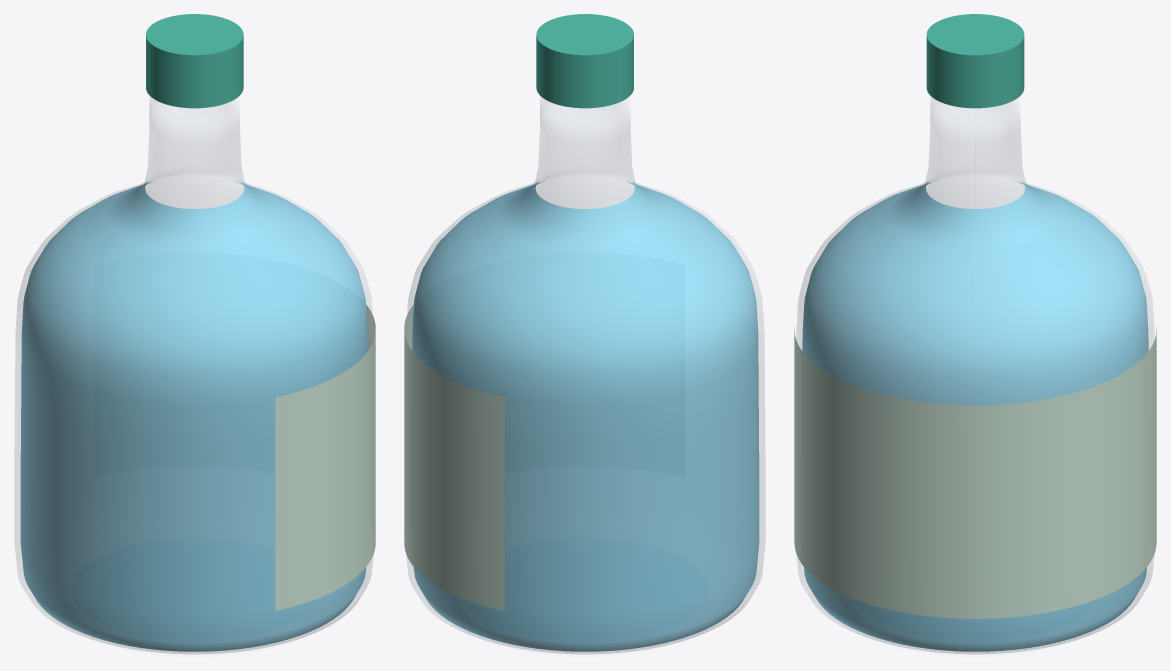
Rendered from krio_h2o_20litre.glb.
The picture shows the model from 3 angles, left to right: view 1: azimuth 30°, elevation 25°; view 2: azimuth 150°, elevation 25°; view 3: azimuth 270°, elevation 25°; orthographic projection.
Parts seen in each view (by area): view 1: bottle shell, water volume, label, cap; view 2: bottle shell, water volume, label, cap; view 3: bottle shell, label, water volume, cap.
Boxes of the visible parts, bbox=[...] form: bottle shell: bbox=[14, 96, 373, 656]; water volume: bbox=[20, 181, 367, 651]; label: bbox=[275, 304, 375, 610]; cap: bbox=[146, 14, 243, 108]; bottle shell: bbox=[406, 96, 765, 656]; water volume: bbox=[412, 181, 759, 651]; label: bbox=[404, 304, 504, 610]; cap: bbox=[536, 14, 633, 108]; bottle shell: bbox=[796, 96, 1154, 656]; label: bbox=[794, 327, 1156, 618]; water volume: bbox=[802, 181, 1148, 651]; cap: bbox=[926, 14, 1024, 108].
Size of the model in its own units: 0.2964 by 0.5053 by 0.2969.
